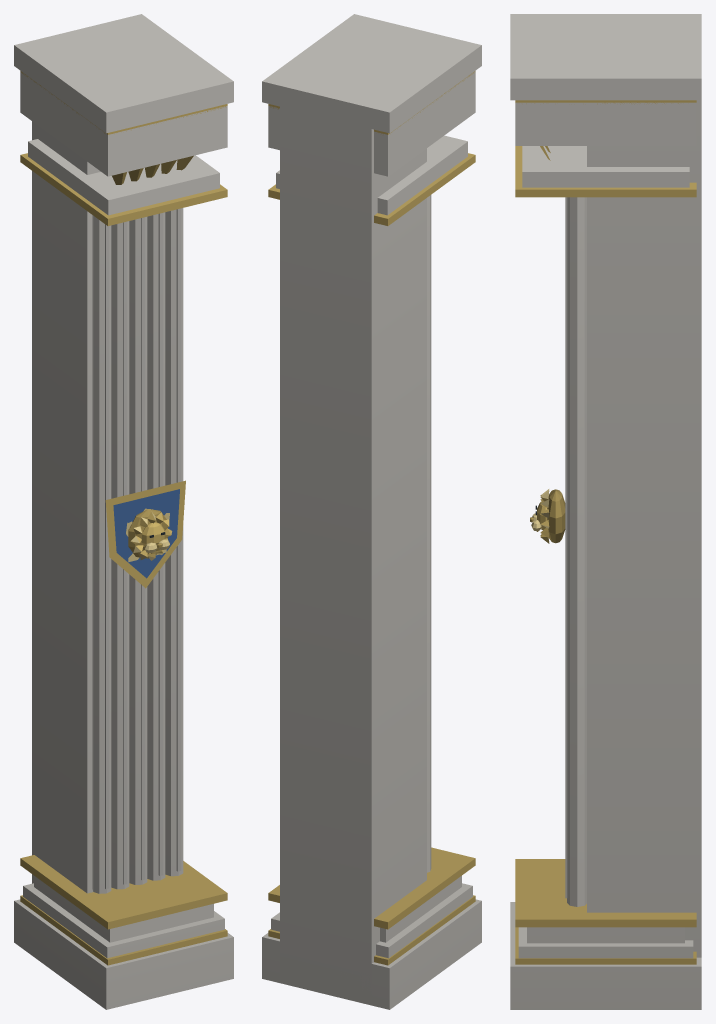
File: palace_wall_royal_pilaster.glb
The picture shows the model from 3 angles, left to right: view 1: azimuth 30°, elevation 25°; view 2: azimuth 150°, elevation 25°; view 3: azimuth 270°, elevation 25°; orthographic projection. The views are drawn at different scales.
Parts seen in each view (by area): view 1: palace_wall_royal_pilaster; view 2: palace_wall_royal_pilaster; view 3: palace_wall_royal_pilaster.
Boxes of the visible parts, left/top/right/bottom form: palace_wall_royal_pilaster: left=14, top=14, right=233, bottom=1009; palace_wall_royal_pilaster: left=262, top=14, right=481, bottom=1009; palace_wall_royal_pilaster: left=510, top=14, right=701, bottom=1009.
Size of the model in its own units: 0.64 by 4.3 by 0.8.
